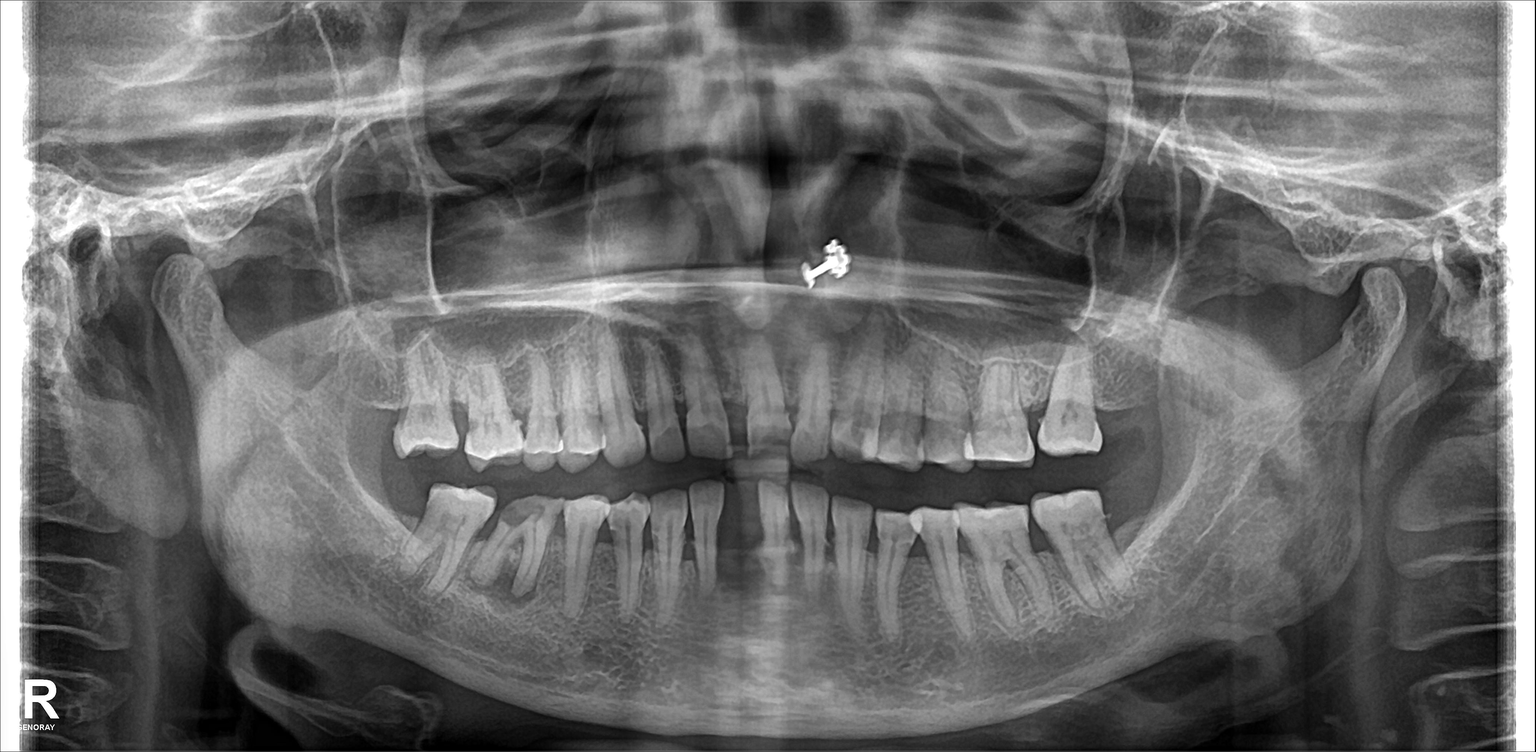Dental Caries: (438, 393, 474, 435)
Missing Tooth: (1110, 484, 1168, 575), (1099, 331, 1141, 454), (723, 478, 766, 597), (356, 352, 404, 442), (382, 467, 429, 550)
